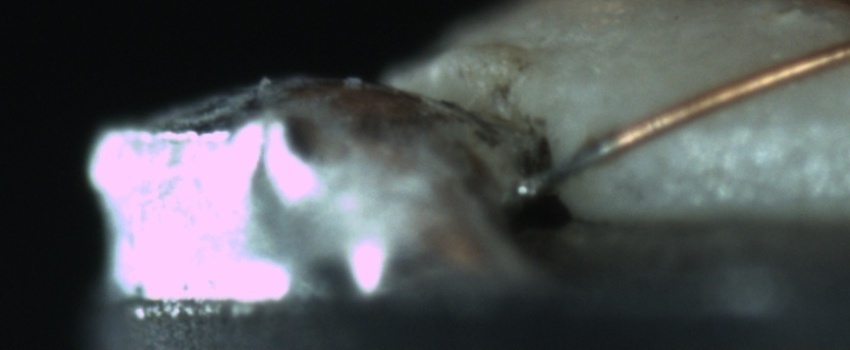DL: (689, 99, 850, 155)
TS: (515, 136, 621, 198)
TTCW: (510, 113, 653, 201)
